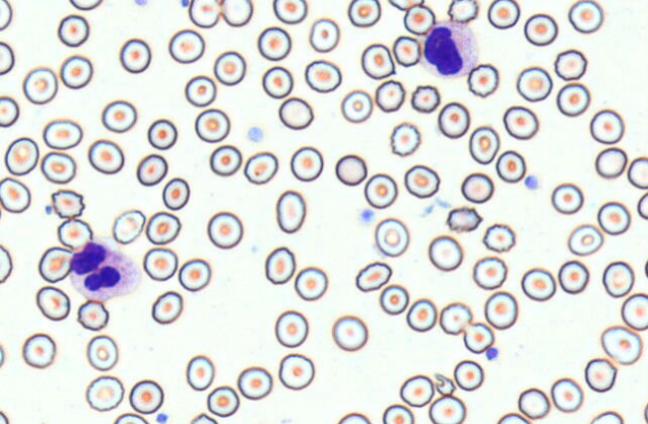GRAN: (67, 239, 146, 303)
MONO: (418, 19, 479, 80)
PLT: (247, 124, 264, 146), (357, 208, 377, 226), (524, 175, 543, 193), (484, 345, 502, 363), (155, 413, 170, 424), (44, 204, 53, 217), (177, 0, 191, 8), (135, 0, 148, 7)
RBC: (600, 325, 642, 365), (85, 375, 124, 411), (374, 217, 409, 257), (331, 314, 368, 351), (207, 211, 243, 249), (22, 66, 58, 104), (4, 136, 39, 175), (275, 189, 306, 233), (87, 138, 124, 174), (278, 353, 314, 390), (516, 66, 552, 102), (428, 234, 463, 271), (38, 246, 73, 283), (274, 309, 308, 347), (360, 43, 395, 79), (168, 28, 204, 63), (35, 285, 70, 321), (589, 108, 624, 144), (403, 164, 440, 198), (484, 291, 517, 329), (42, 118, 82, 149), (194, 108, 230, 142), (101, 99, 137, 133), (520, 267, 556, 301), (22, 332, 56, 368), (304, 59, 341, 92), (437, 101, 470, 138), (468, 125, 499, 164), (142, 247, 177, 281), (278, 96, 313, 130), (503, 105, 538, 139), (129, 379, 163, 414), (59, 54, 93, 89), (257, 26, 291, 61), (363, 173, 397, 208), (237, 366, 272, 400), (472, 255, 507, 289), (40, 151, 76, 184), (567, 223, 603, 256), (568, 0, 604, 33), (86, 334, 118, 371), (602, 260, 634, 297), (264, 246, 295, 284), (556, 82, 590, 116), (112, 209, 145, 244), (243, 151, 278, 184), (145, 211, 180, 244), (290, 146, 323, 181), (399, 374, 434, 407), (213, 50, 246, 85), (550, 377, 583, 412), (584, 357, 617, 392), (294, 266, 327, 301), (523, 13, 558, 46), (119, 37, 151, 73), (0, 176, 31, 213), (439, 301, 472, 335), (597, 201, 630, 235), (389, 121, 421, 156), (557, 259, 589, 294), (355, 261, 391, 292), (178, 258, 211, 291), (467, 63, 499, 97), (151, 290, 183, 324), (340, 89, 372, 123), (57, 218, 92, 249), (308, 17, 339, 52), (620, 292, 648, 330), (209, 144, 242, 176), (594, 146, 627, 178), (261, 65, 293, 98), (517, 387, 550, 419), (206, 385, 239, 417), (57, 14, 89, 47), (460, 172, 494, 203), (406, 298, 437, 332), (185, 354, 214, 390), (428, 395, 465, 423), (335, 153, 367, 185), (462, 321, 494, 353), (184, 75, 216, 107), (551, 182, 583, 214), (136, 153, 167, 186), (495, 150, 526, 183), (374, 79, 405, 112), (554, 49, 587, 80), (50, 188, 84, 218), (403, 4, 435, 35), (77, 299, 109, 330), (446, 205, 482, 232), (147, 118, 177, 150), (453, 359, 483, 391), (379, 283, 409, 315), (161, 177, 190, 210), (487, 0, 520, 29), (482, 223, 515, 252), (347, 0, 381, 27), (392, 35, 421, 66), (188, 0, 220, 28), (410, 84, 440, 113), (272, 0, 307, 24), (221, 0, 253, 26), (447, 0, 478, 22), (627, 156, 647, 189), (382, 403, 414, 423), (0, 95, 19, 127), (0, 41, 14, 75), (0, 244, 12, 283), (589, 410, 623, 423), (388, 0, 424, 11), (113, 412, 148, 423), (496, 412, 530, 423), (337, 412, 371, 423), (0, 0, 12, 30), (69, 0, 102, 10), (190, 412, 218, 423), (637, 191, 647, 219), (0, 343, 5, 367), (0, 410, 9, 423), (643, 401, 648, 423), (644, 258, 648, 279)
Schistocyte: (433, 373, 457, 396)
